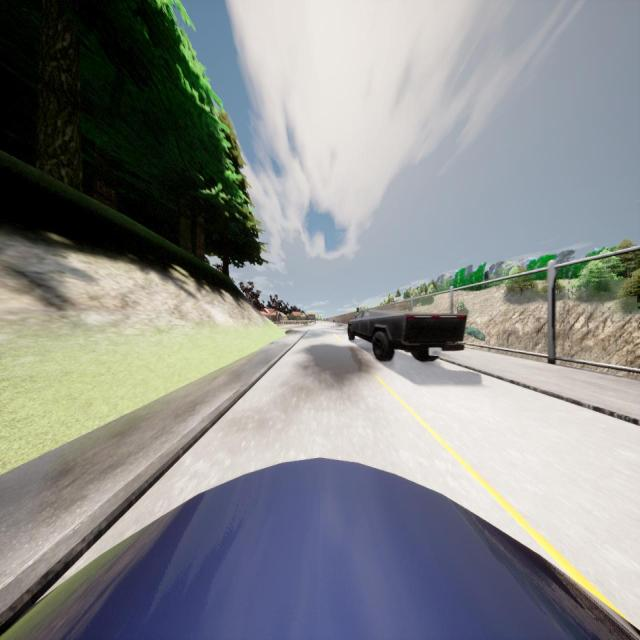Vehicle: (2, 456, 640, 640), (348, 309, 466, 361)
traffic_light: (357, 306, 359, 312)
